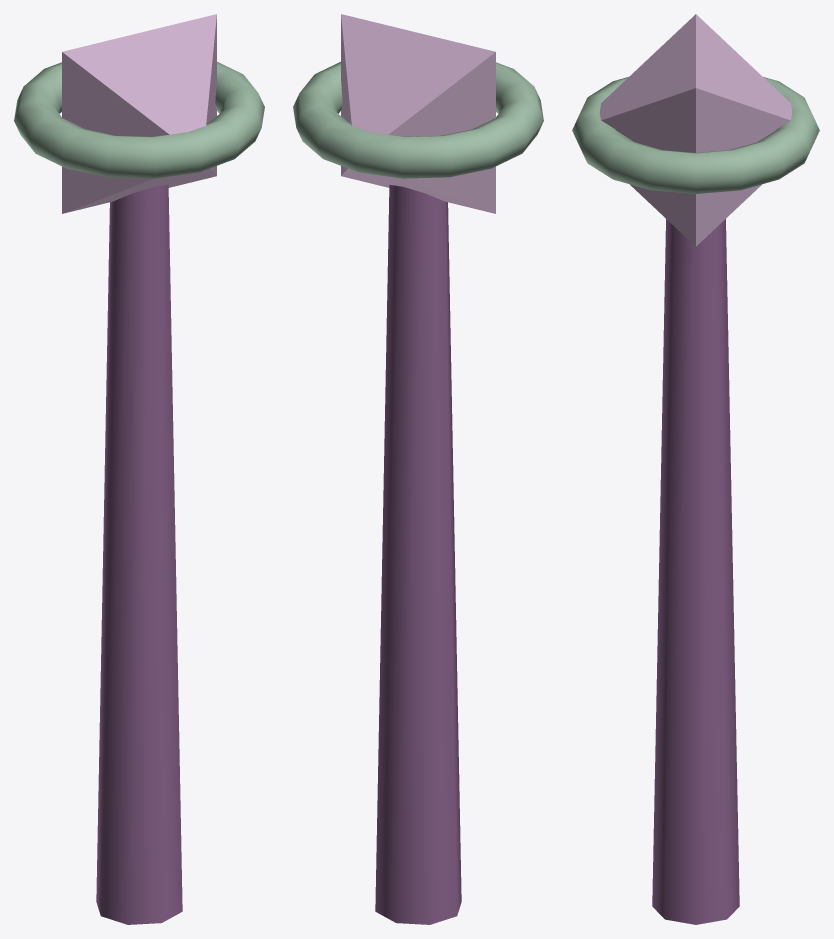
The model's file is star_lamp_cluster.glb.
The picture shows the model from 3 angles, left to right: view 1: azimuth 30°, elevation 25°; view 2: azimuth 150°, elevation 25°; view 3: azimuth 270°, elevation 25°; orthographic projection. The views are drawn at different scales.
Parts seen in each view (by area): view 1: post, light, ring; view 2: post, light, ring; view 3: post, light, ring.
Boxes of the visible parts, x1,y1,x2,y2 form: post: (96,184,182,924); light: (62,14,216,213); ring: (14,62,264,178); post: (375,184,461,924); light: (341,14,495,213); ring: (293,62,543,178); post: (652,219,739,924); light: (599,14,792,246); ring: (572,77,819,193).
Size of what is drawn, in the model's own units: 0.68 by 2.59 by 0.68.
